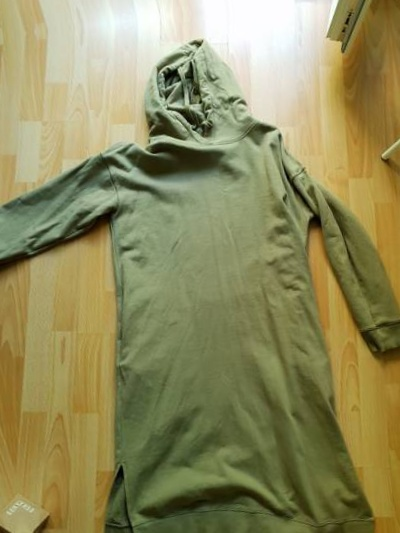Hoodie: (0, 27, 400, 533), (0, 77, 29, 533), (0, 0, 369, 4)
